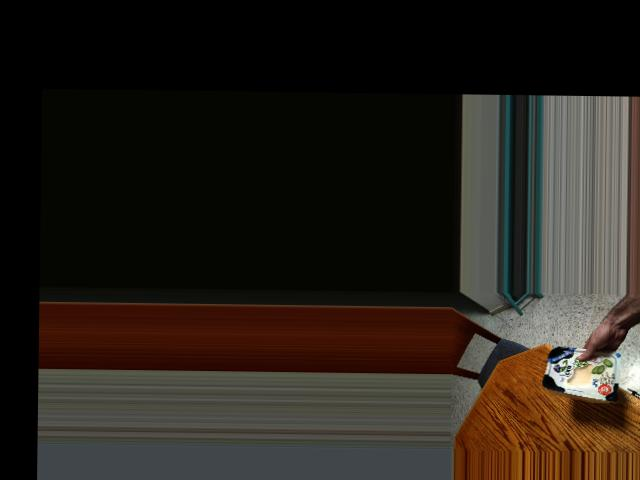cheese: (547, 336, 610, 399)
